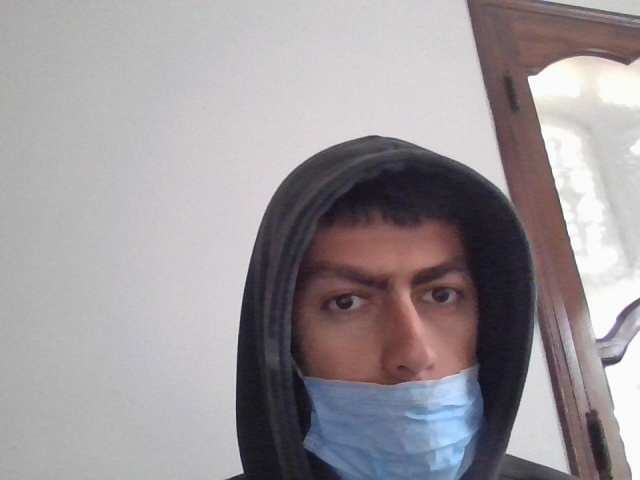mask_weared_incorrect: (294, 195, 494, 479)
